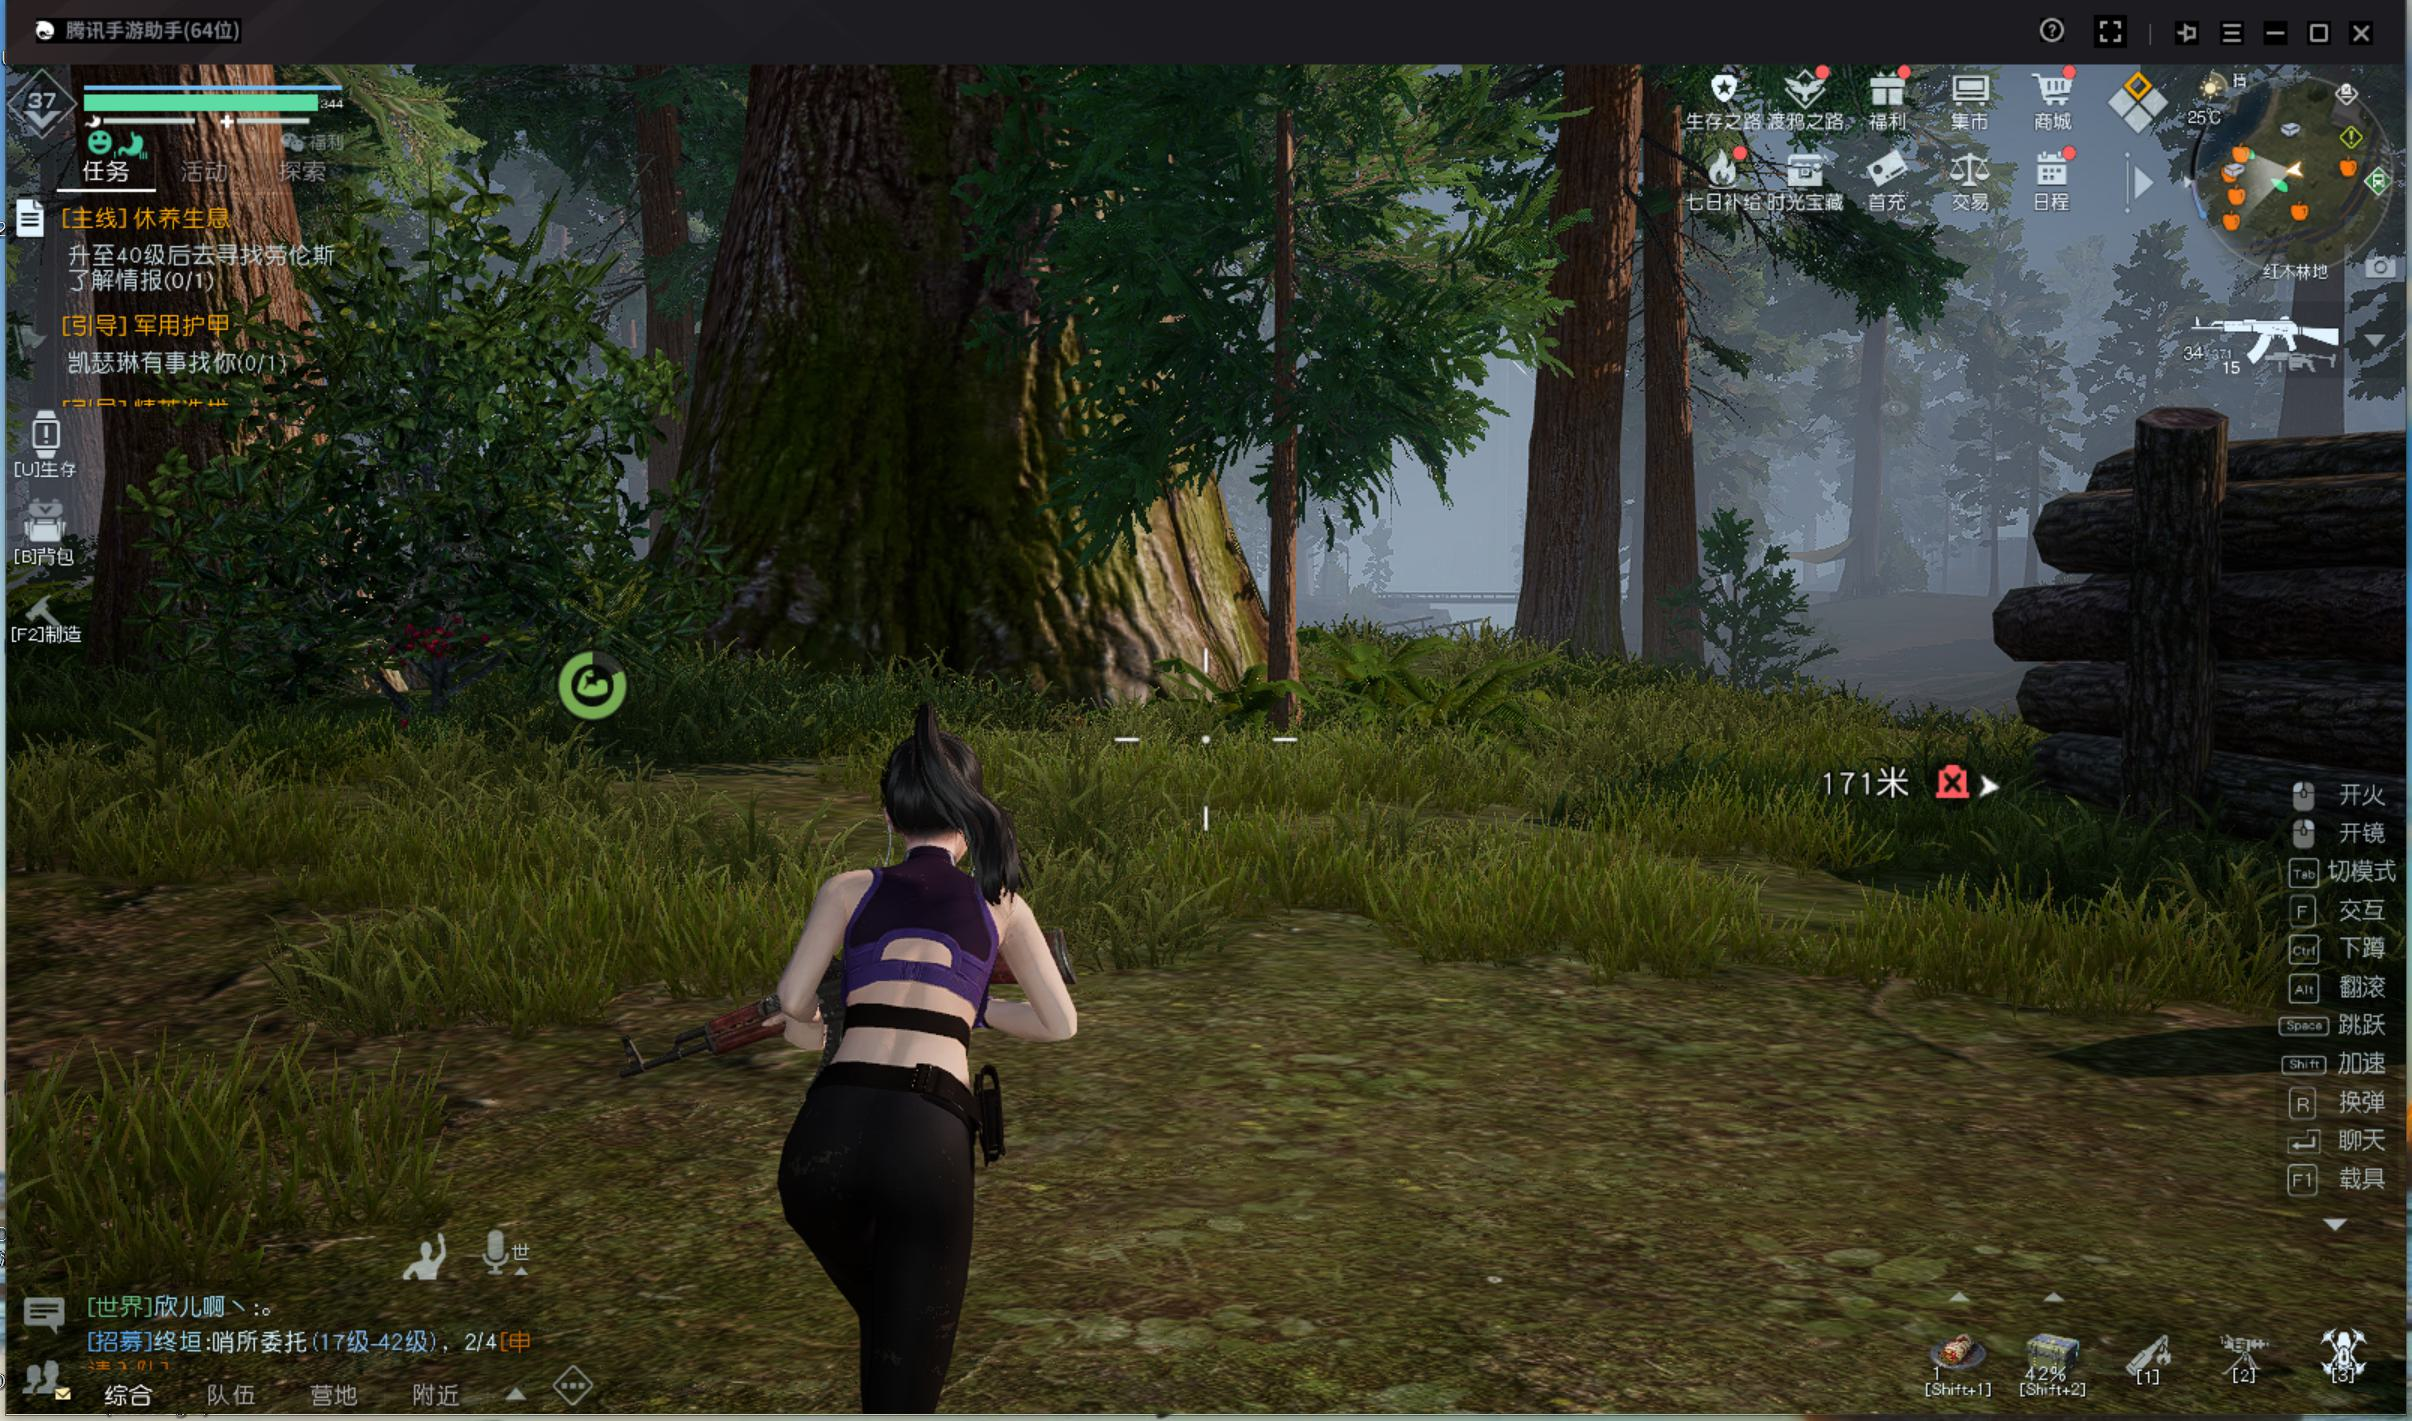tree: (1519, 156, 1632, 721)
